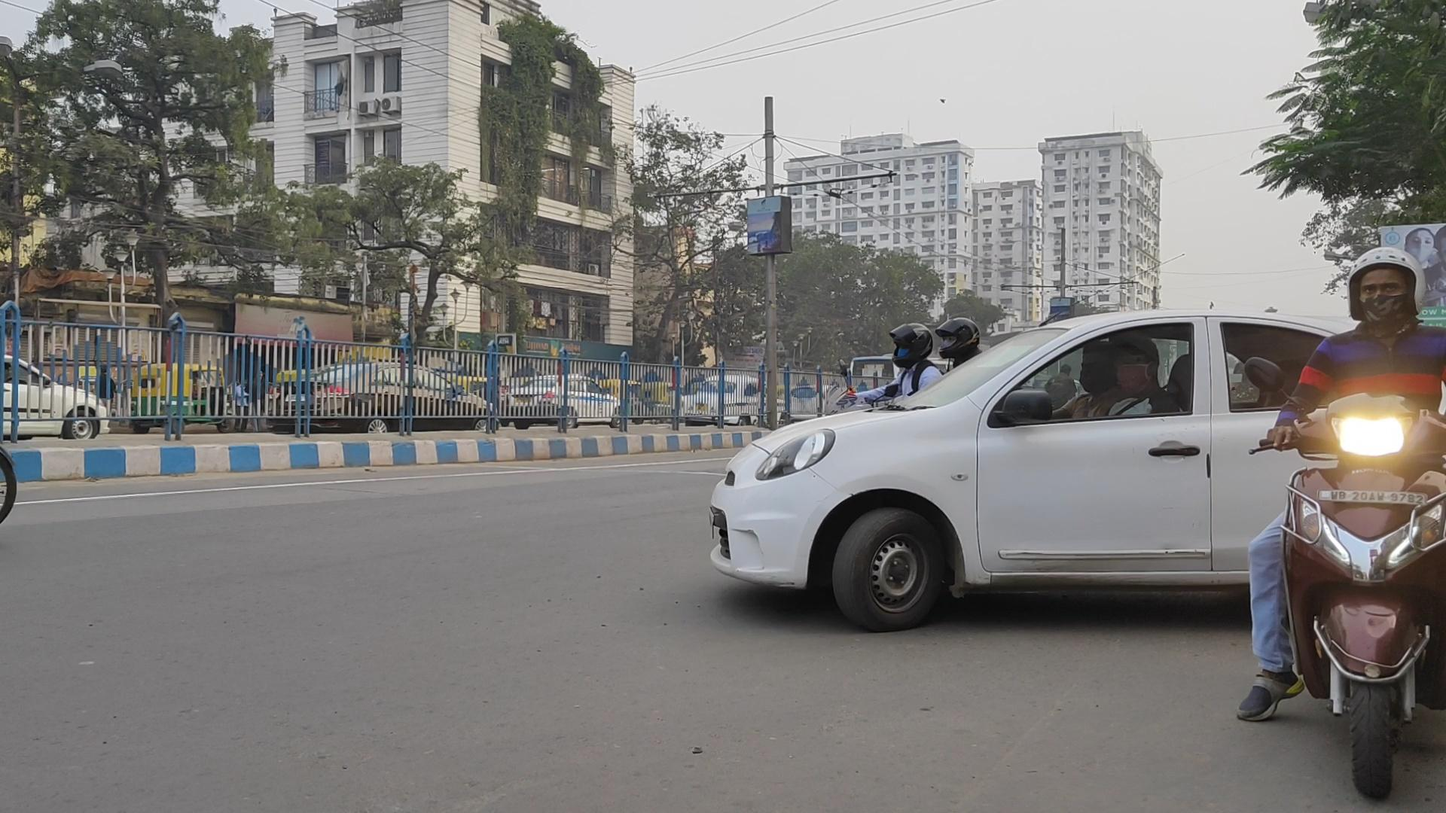bike: (1237, 245, 1446, 802)
car: (708, 309, 1446, 633)
